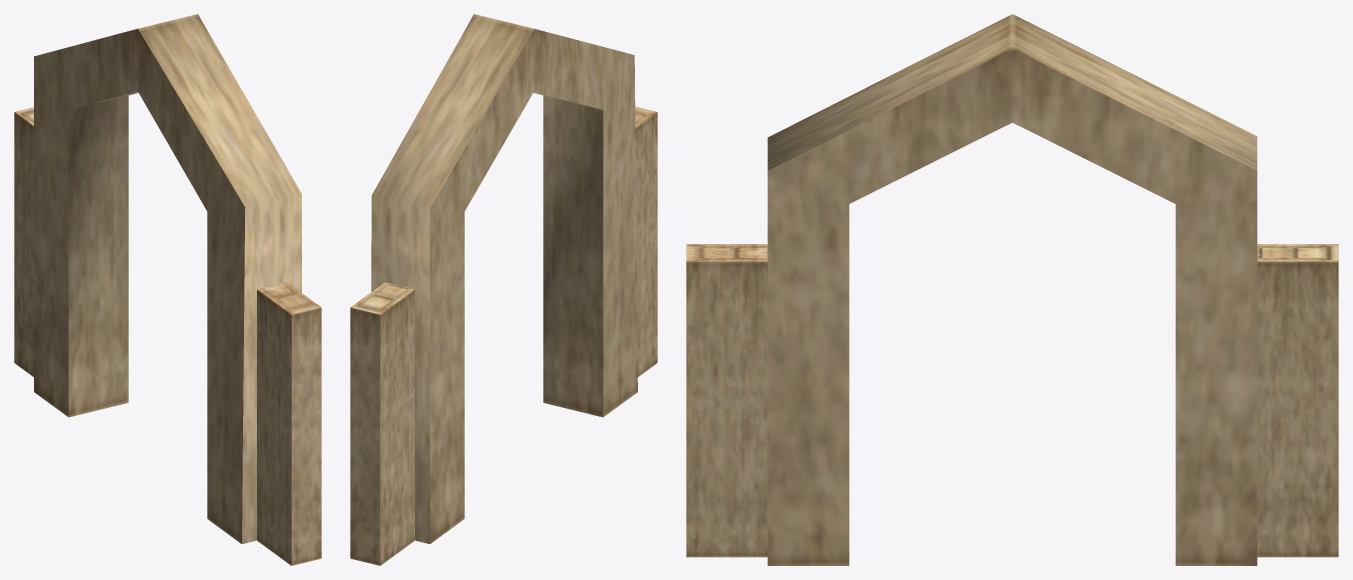
Rendered from thm_tato_imprv_archway_s01_l2.fbx.
The picture shows the model from 3 angles, left to right: view 1: azimuth 30°, elevation 25°; view 2: azimuth 150°, elevation 25°; view 3: azimuth 270°, elevation 25°; orthographic projection. The views are drawn at different scales.
Parts seen in each view (by area): view 1: mesh_node; view 2: mesh_node; view 3: mesh_node.
Part boxes in pixels (x1,y1,x2,y2): mesh_node: (14,14,321,565); mesh_node: (350,14,657,565); mesh_node: (686,14,1338,565).
Bounding box in the file's own units: 1 × 7 × 8.
